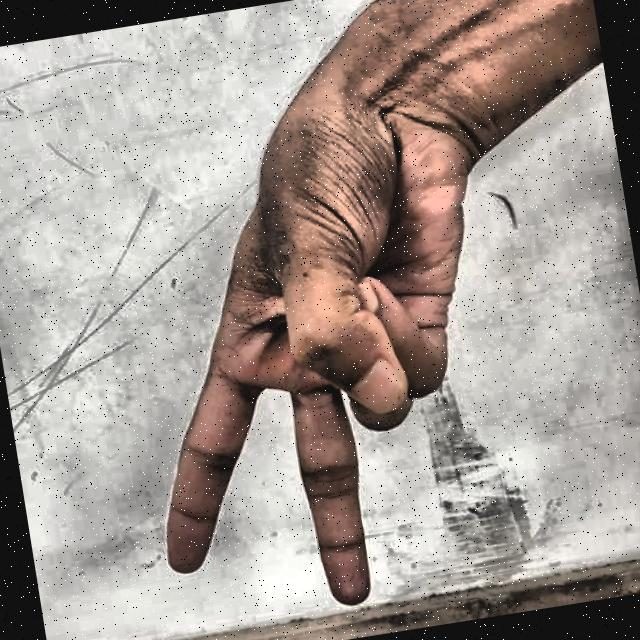Pa: (63, 45, 555, 640)
